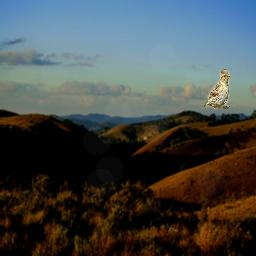Sparrow: (204, 69, 230, 109)
